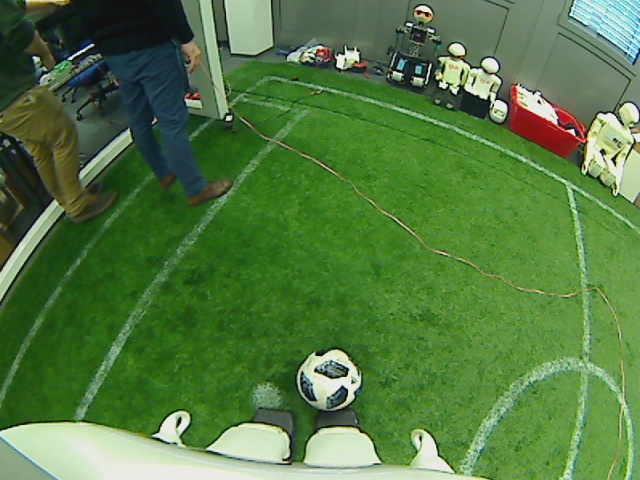ball: (294, 347, 363, 412)
